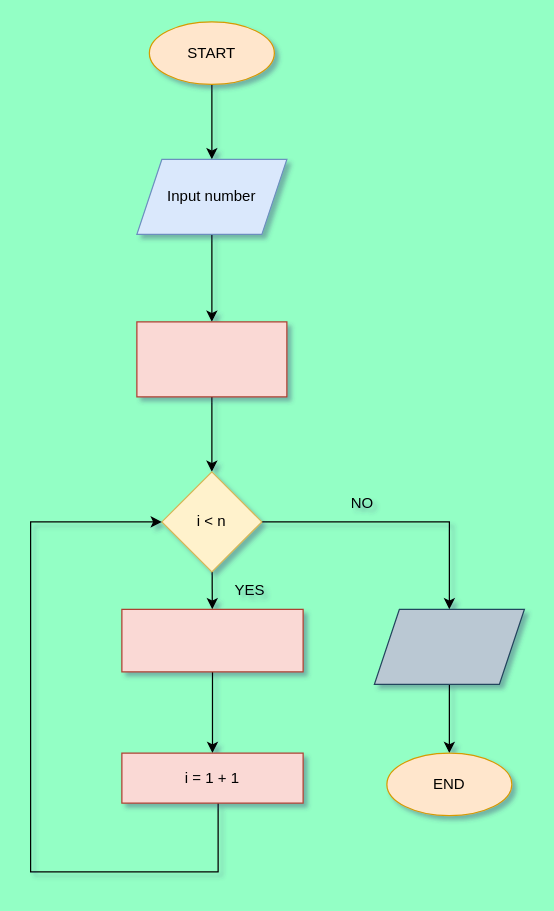
Image size: 554x911. Some labels were removed from this diagram. Each missing label, with the box of its shape:
display factorial outpupt: (373, 608, 524, 684)
factorial = 1: (136, 321, 287, 397)
factorial = factorial × i: (121, 608, 303, 672)
